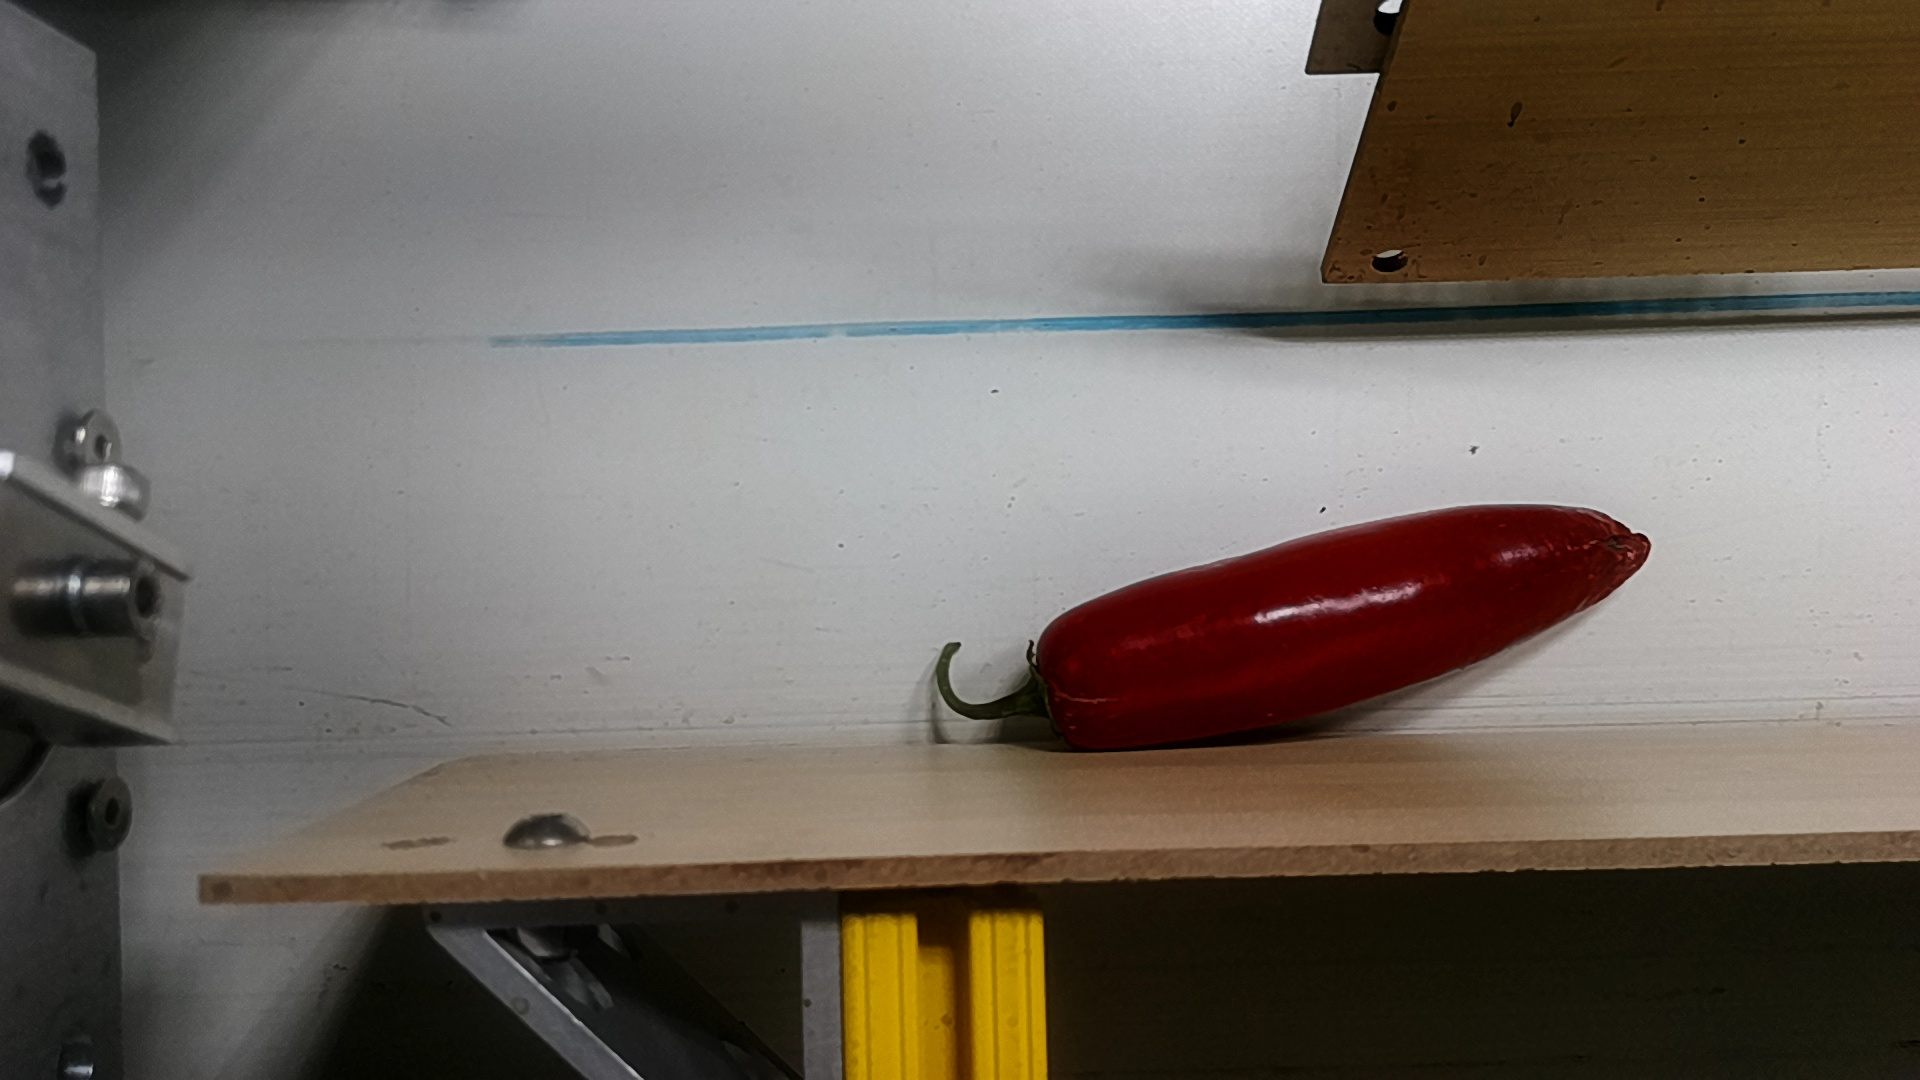Cut Point: (1000, 596, 1109, 745)
